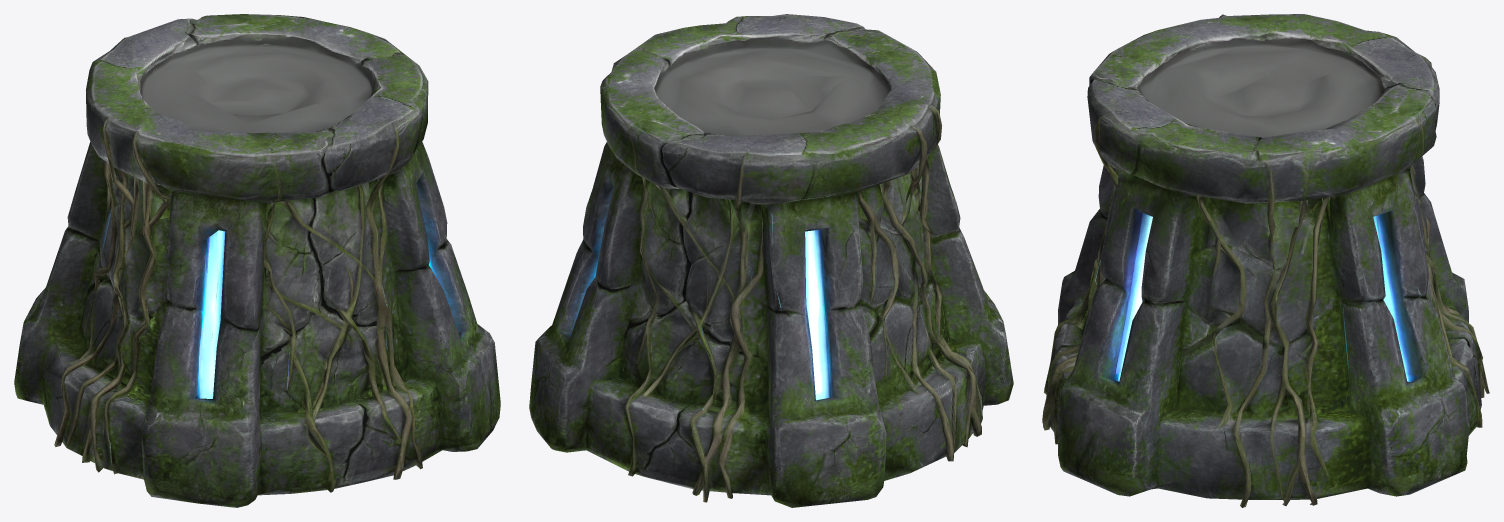
Rendered from Meshy_AI_Mossy_Portal_Well_0506173650_texture.fbx.
The picture shows the model from 3 angles, left to right: view 1: azimuth 30°, elevation 25°; view 2: azimuth 150°, elevation 25°; view 3: azimuth 270°, elevation 25°; orthographic projection.
Visible parts, largest first — view 1: Mesh_0; view 2: Mesh_0; view 3: Mesh_0.
Boxes of the visible parts, left/top/right/bottom form: Mesh_0: left=14, top=14, right=500, bottom=507; Mesh_0: left=529, top=14, right=1013, bottom=507; Mesh_0: left=1042, top=14, right=1489, bottom=507.
Bounding box in the file's own units: 191 × 156 × 189.
1 material, 1 textured.
